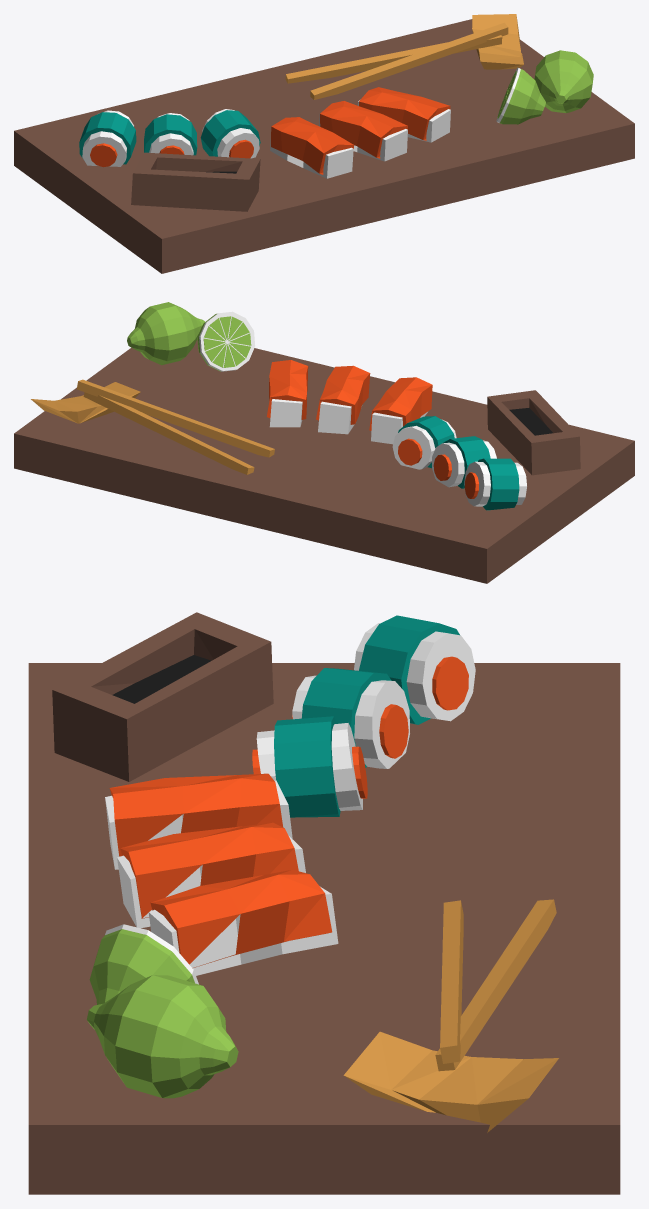
File: Sushi.glb
The picture shows the model from 3 angles, top to bottom: view 1: azimuth 30°, elevation 25°; view 2: azimuth 150°, elevation 25°; view 3: azimuth 270°, elevation 25°; orthographic projection. The views are drawn at different scales.
Parts seen in each view (by area): view 1: Node; view 2: Node; view 3: Node.
Part boxes in pixels (left/top/right/bottom): Node: left=14, top=14, right=634, bottom=273; Node: left=14, top=302, right=634, bottom=583; Node: left=28, top=612, right=620, bottom=1194.
Bounding box in the file's own units: 0.8617 × 0.1546 × 0.46.
